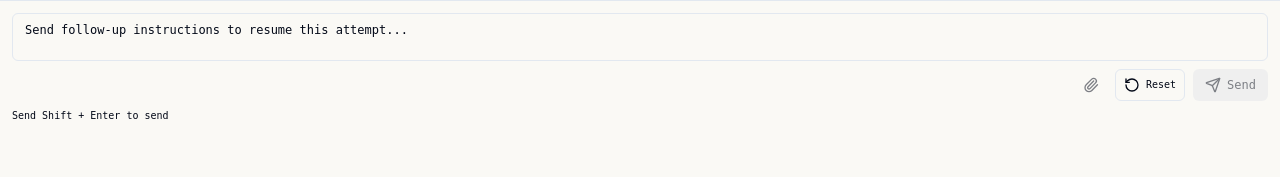
TaskFollowUpSection reset integration flow › supports reset -> force reset workflow when backend reports dirty guard
What coordinates should you click on to do the following:
click the button "Reset"
I would click on:
 (1150, 85)
Its box is [1115,69,1185,101].
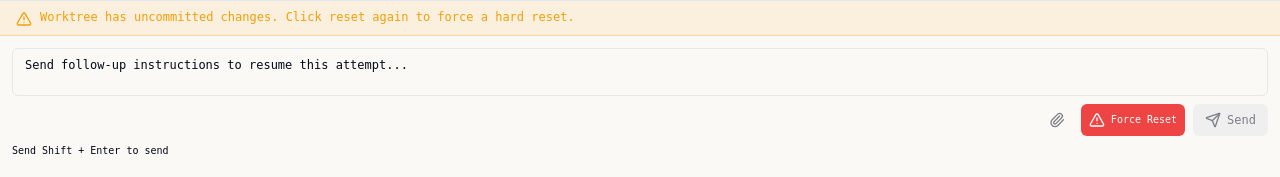
Now the text "Worktree has uncommitted changes. Click reset again to force a hard reset." is shown, box [40,9,575,25]
Now the button "Force Reset" is shown
What coordinates should you click on to do the following:
click the button "Force Reset"
I would click on:
 (1133, 120)
Its box is [1081,104,1185,136].
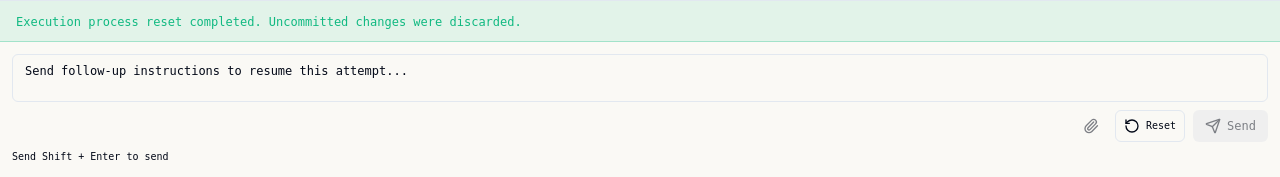
Now the text "Execution process reset completed. Uncommitted changes were discarded." is shown, box [16,15,522,29]
